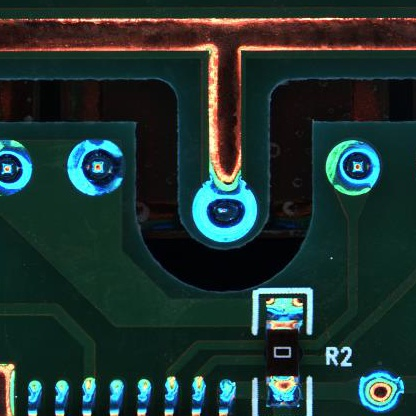spot: (190, 178, 258, 243), (68, 137, 127, 198), (323, 140, 383, 195), (356, 370, 405, 413), (1, 139, 35, 199)
